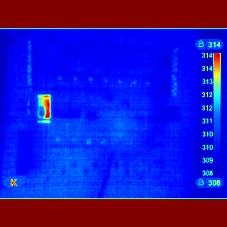Less: (38, 109, 44, 121)
